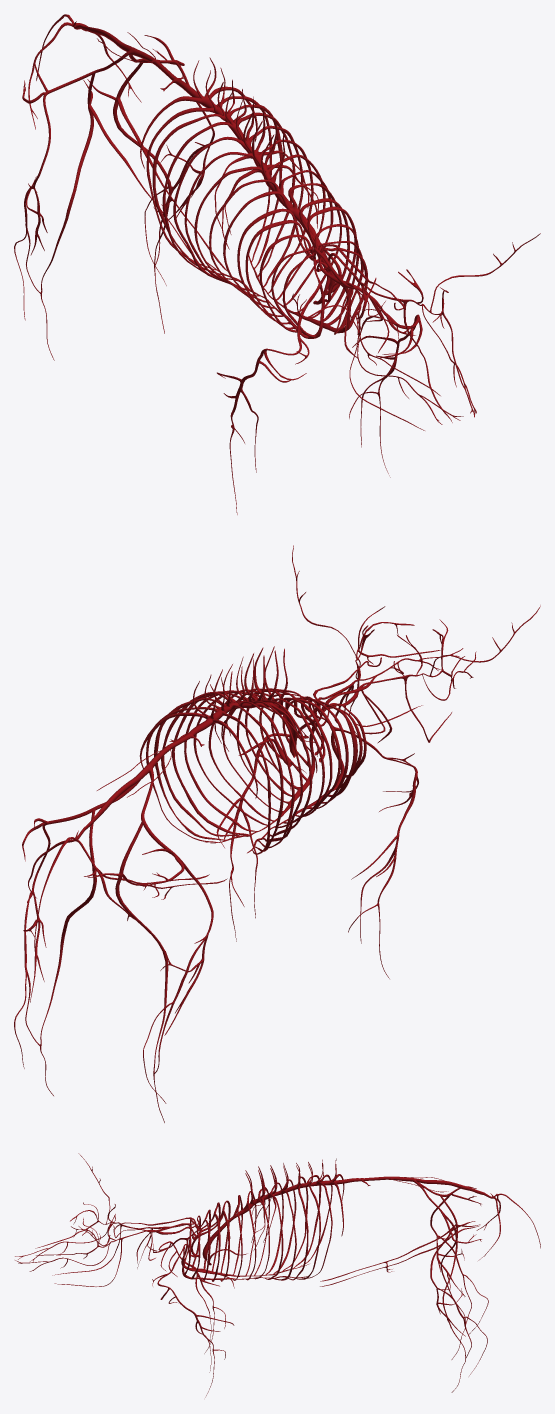
File: Arteries.fbx
3 renders of one model, top to bottom at view 1: azimuth 30°, elevation 25°; view 2: azimuth 150°, elevation 25°; view 3: azimuth 270°, elevation 25°, orthographic. The views are drawn at different scales.
Parts seen in each view (by area): view 1: Arteries; view 2: Arteries; view 3: Arteries.
Part boxes in pixels (x1,y1,x2,y2): Arteries: (14, 14, 540, 514); Arteries: (14, 545, 540, 1122); Arteries: (15, 1153, 540, 1397).
Size of the model in its own units: 36.36 by 50.49 by 111.
